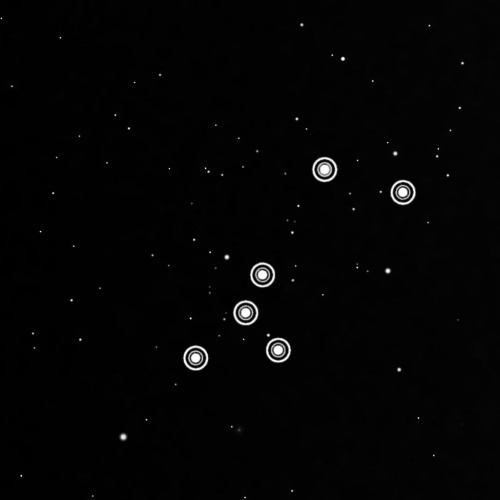canis_major: (174, 149, 421, 383)
